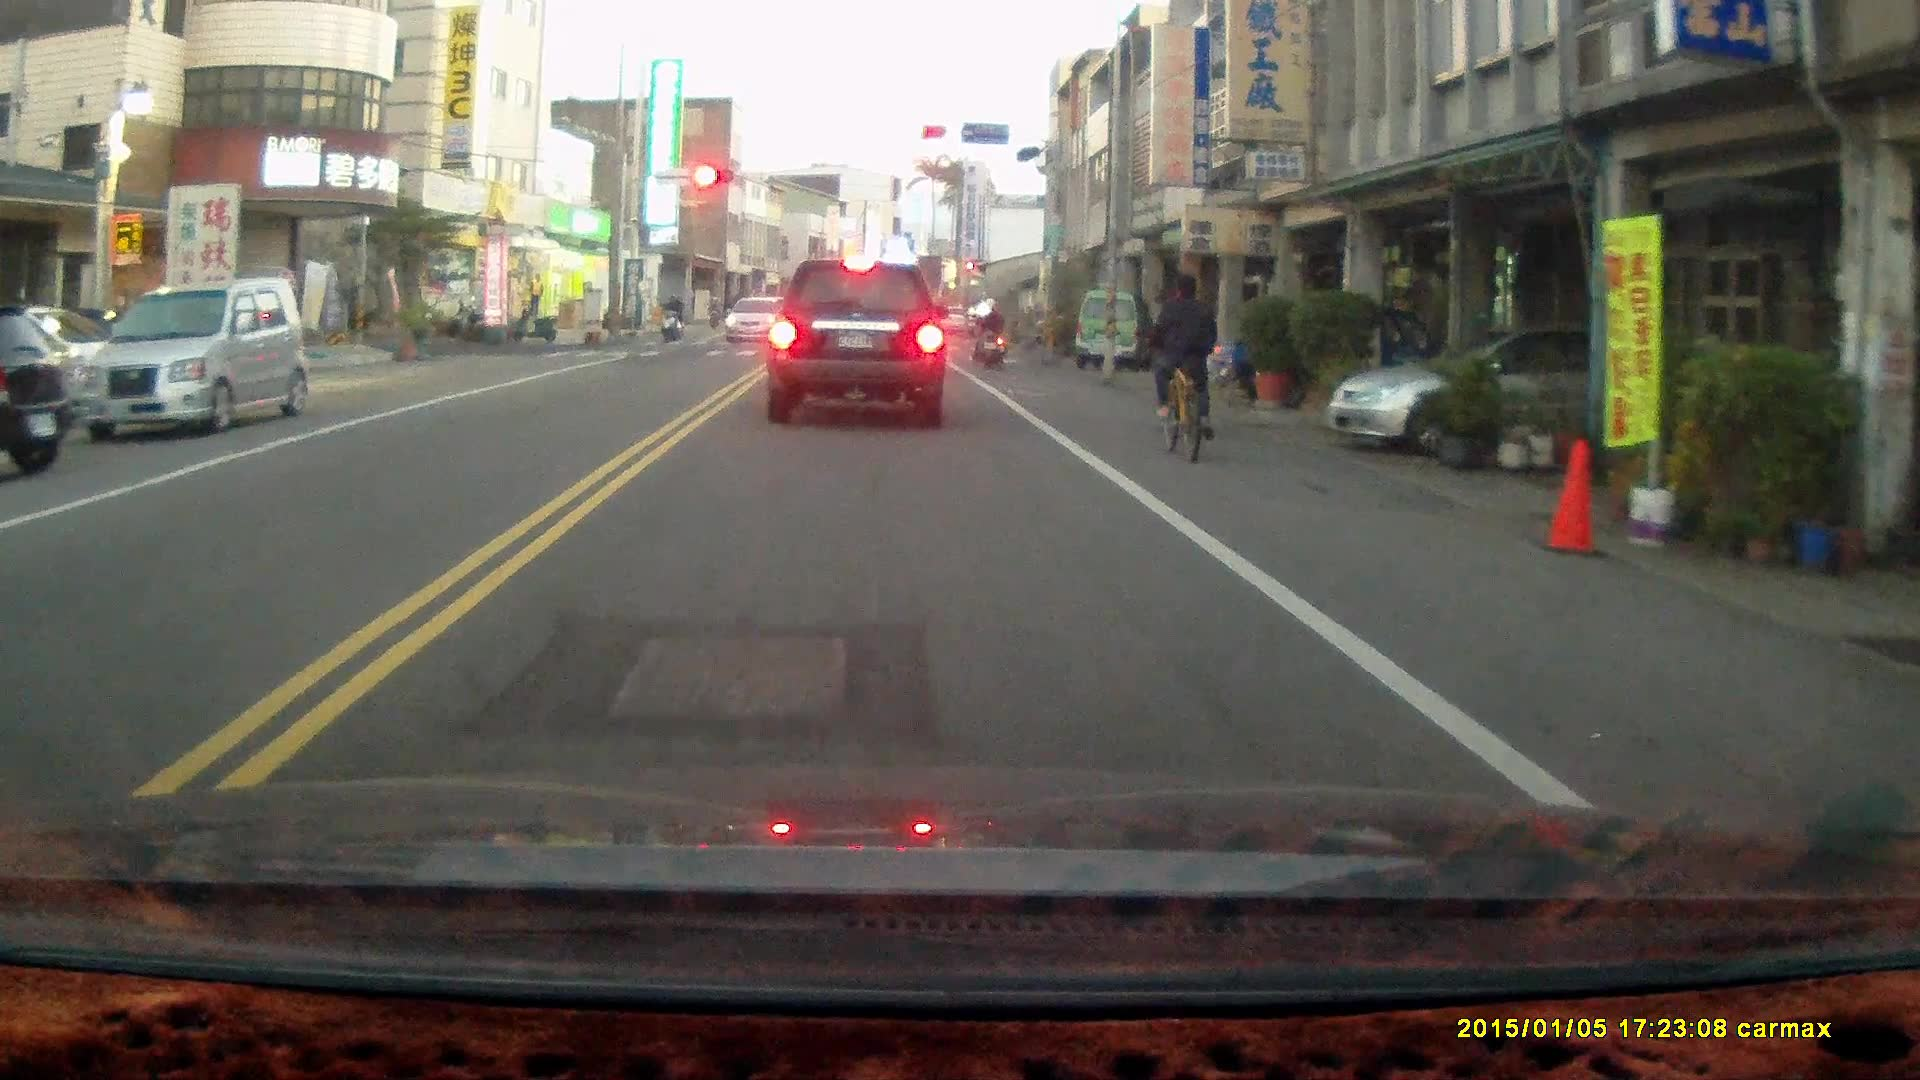pedestrian: (525, 271, 545, 318)
rider: (1145, 267, 1217, 459), (971, 298, 1010, 372), (658, 292, 685, 343)
vehicle: (1330, 319, 1724, 453), (62, 274, 315, 445), (763, 258, 951, 432), (1, 296, 78, 480), (1075, 290, 1154, 371)
